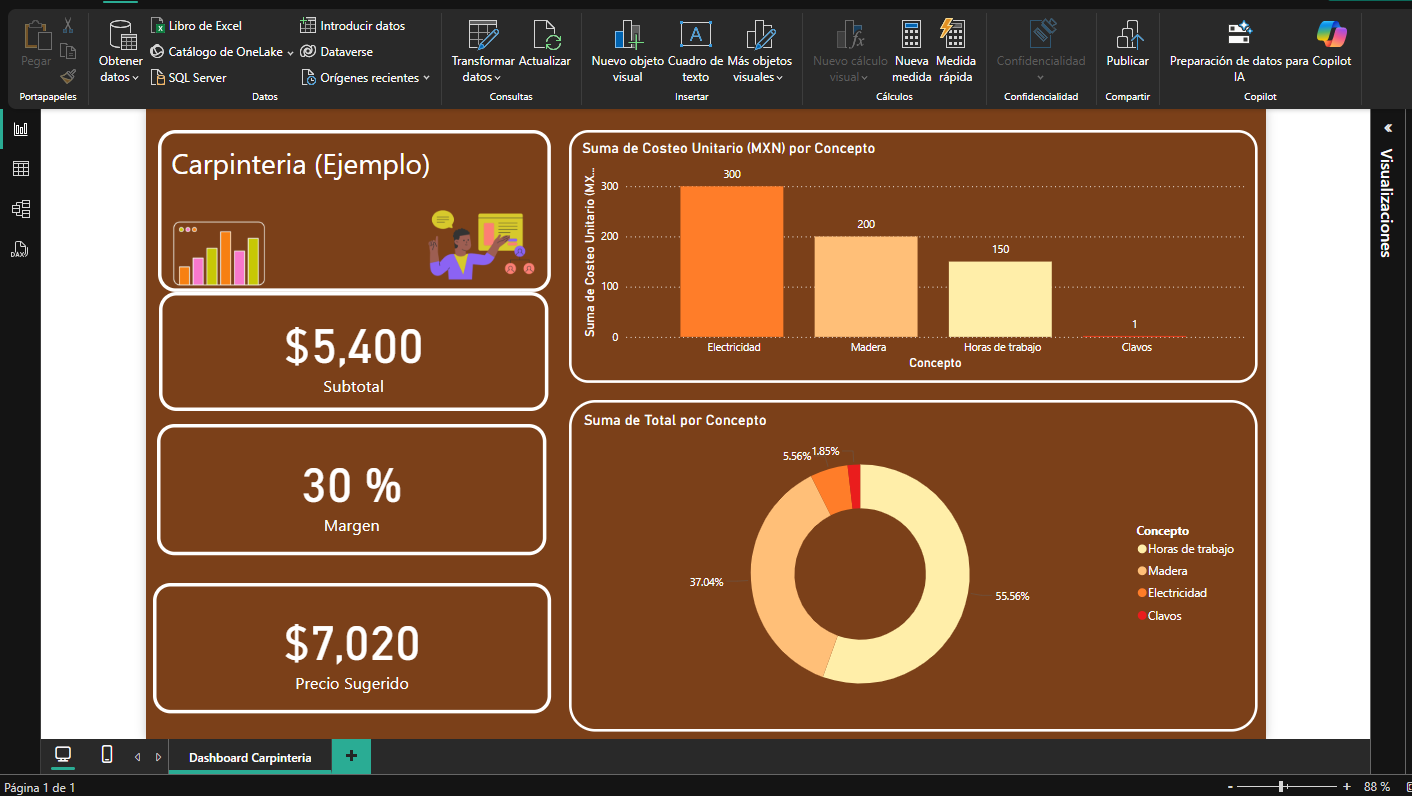

What the dashboard file says about the page in this screenshot:
{"tool":"powerbi","page":{"name":"Dashboard Carpinteria","canvas":[1280,720],"ordinal":0},"visuals":[{"type":"card","fields":{"Values":["Power Bi.Subtotal"]},"box":[15.3,209.1,444.9,136.4],"z":0},{"type":"card","fields":{"Values":["Power Bi.Margen"]},"box":[12.7,359.5,444.9,150.4],"z":1000},{"type":"card","fields":{"Values":["Power Bi.Ganancia"]},"box":[7.6,541.8,455.1,149.2],"z":2000},{"type":"columnChart","fields":{"Y":["Sum(Power Bi.Costeo Unitario (MXN))"],"Category":["Power Bi.Concepto"]},"box":[483.2,24.2,786.6,289.4],"z":3000},{"type":"donutChart","fields":{"Category":["Power Bi.Concepto"],"Y":["Sum(Power Bi.Total)"]},"box":[483.2,332.7,786.6,378.6],"z":4000},{"type":"image","box":[308.5,104.5,149.2,104.5],"z":4500},{"type":"image","box":[24.2,110.9,121.1,109.6],"z":4750},{"type":"textbox","box":[14,24.2,448.8,184.9],"z":5000}]}

Visuals, with their boxes on the page's 1280x720 design canvas (x1, y1, x2, y2). These are canvas units, not pixel positions in the 1412x796 screenshot, which may show the page scaled, cropped or inside an application window:
card - Power Bi.Subtotal: (x1=15, y1=209, x2=460, y2=346)
card - Power Bi.Margen: (x1=13, y1=360, x2=458, y2=510)
card - Power Bi.Ganancia: (x1=8, y1=542, x2=463, y2=691)
columnChart - Sum(Power Bi.Costeo Unitario (MXN)) x Power Bi.Concepto: (x1=483, y1=24, x2=1270, y2=314)
donutChart - Power Bi.Concepto x Sum(Power Bi.Total): (x1=483, y1=333, x2=1270, y2=711)
image: (x1=308, y1=104, x2=458, y2=209)
image: (x1=24, y1=111, x2=145, y2=220)
textbox: (x1=14, y1=24, x2=463, y2=209)
